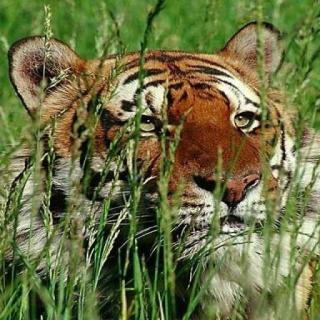Tiger: (0, 19, 320, 279)
